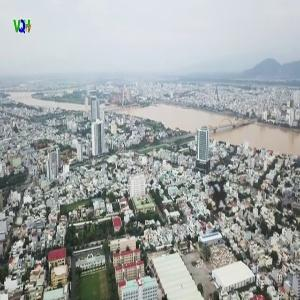drone: (177, 151, 266, 240)
